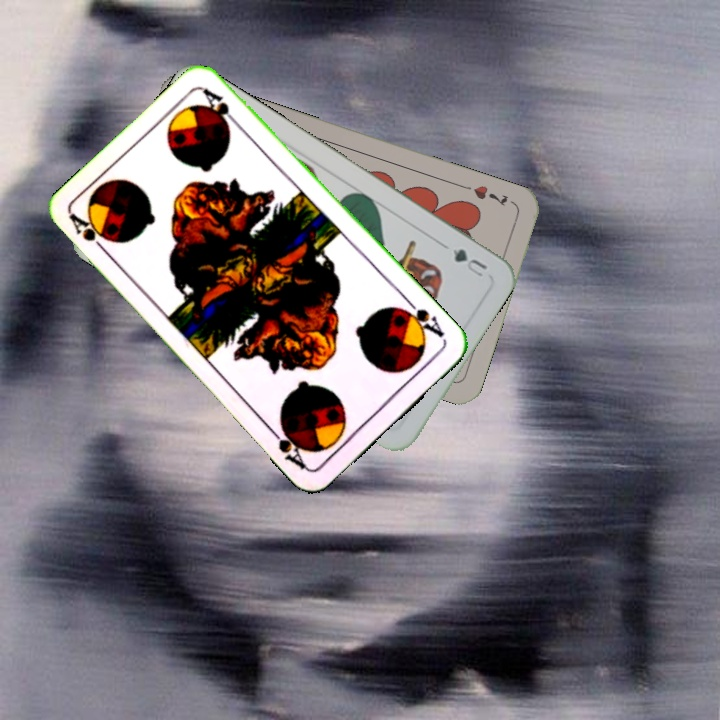GU: (447, 244, 490, 280)
H7: (459, 181, 511, 209)
SA: (395, 294, 448, 341), (66, 210, 112, 258)
